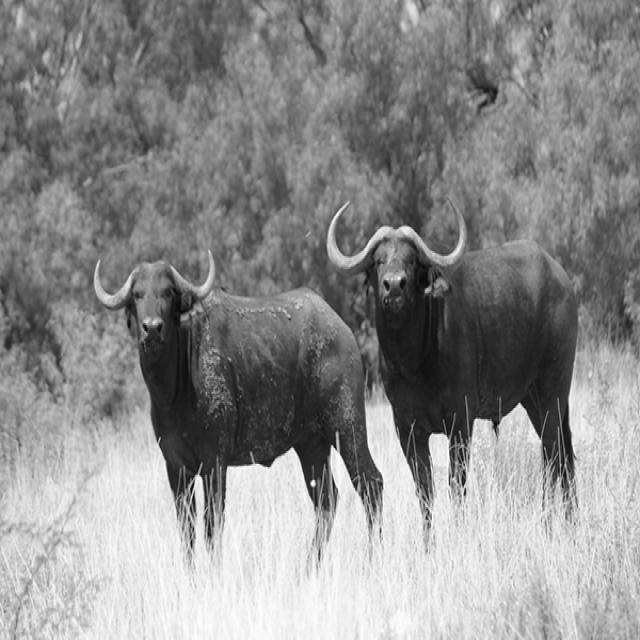Buffalo: (93, 248, 386, 563), (328, 198, 582, 552)
